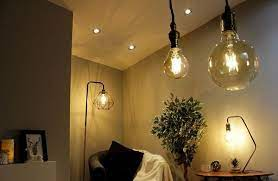bulb: (205, 27, 264, 97), (164, 39, 196, 81), (97, 92, 109, 108)
